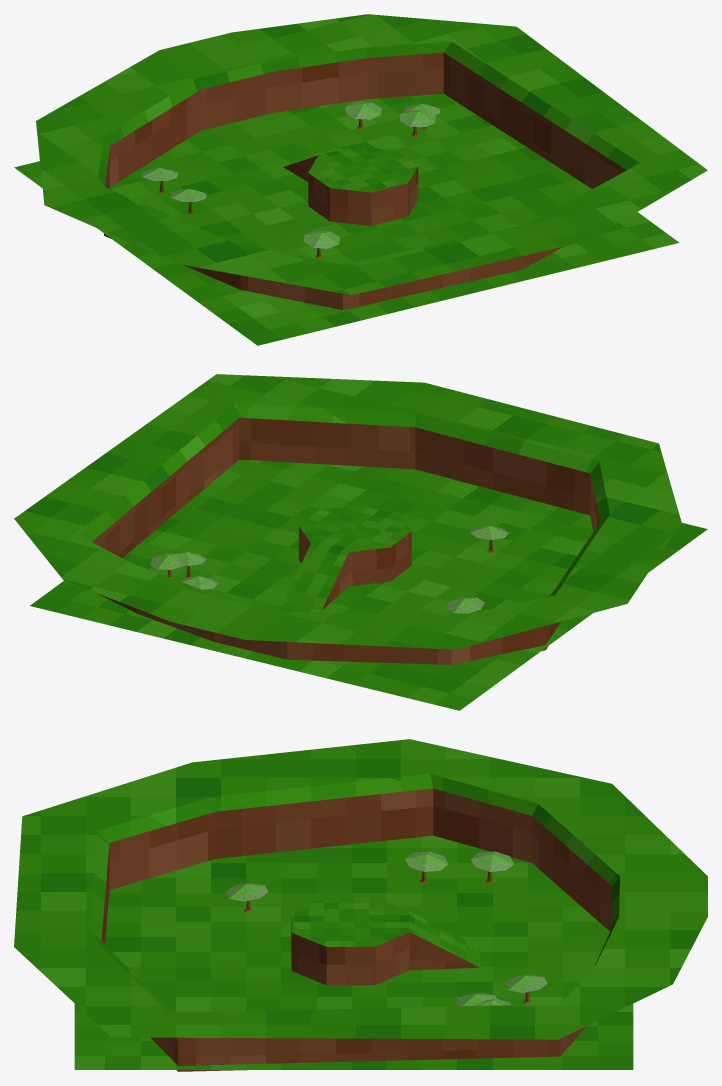
3 renders of one model, top to bottom at view 1: azimuth 30°, elevation 25°; view 2: azimuth 150°, elevation 25°; view 3: azimuth 270°, elevation 25°, orthographic. The views are drawn at different scales.
Parts seen in each view (by area): view 1: Environment, Ground, Env_Center, Tree.003, Tree.005, Tree.004; view 2: Environment, Ground, Env_Center; view 3: Environment, Ground, Env_Center, Tree, Tree.001, Tree.005, Tree.003.
Boxes of the visible parts, x1=… form: Environment: x1=36, y1=14, x2=707, y2=309; Ground: x1=14, y1=93, x2=679, y2=345; Env_Center: x1=283, y1=146, x2=418, y2=225; Tree.003: x1=345, y1=101, x2=381, y2=129; Tree.005: x1=303, y1=230, x2=339, y2=258; Tree.004: x1=400, y1=110, x2=435, y2=137; Environment: x1=14, y1=374, x2=681, y2=664; Ground: x1=30, y1=459, x2=707, y2=710; Env_Center: x1=284, y1=504, x2=411, y2=610; Environment: x1=14, y1=739, x2=707, y2=1071; Ground: x1=74, y1=835, x2=633, y2=1069; Env_Center: x1=291, y1=897, x2=480, y2=985; Tree: x1=405, y1=851, x2=448, y2=883; Tree.001: x1=470, y1=851, x2=513, y2=883; Tree.005: x1=225, y1=882, x2=268, y2=912; Tree.003: x1=504, y1=974, x2=547, y2=1003.
Bounding box in the file's own units: 255 × 36.69 × 248.
Materials: 2 (2 with a texture image).
